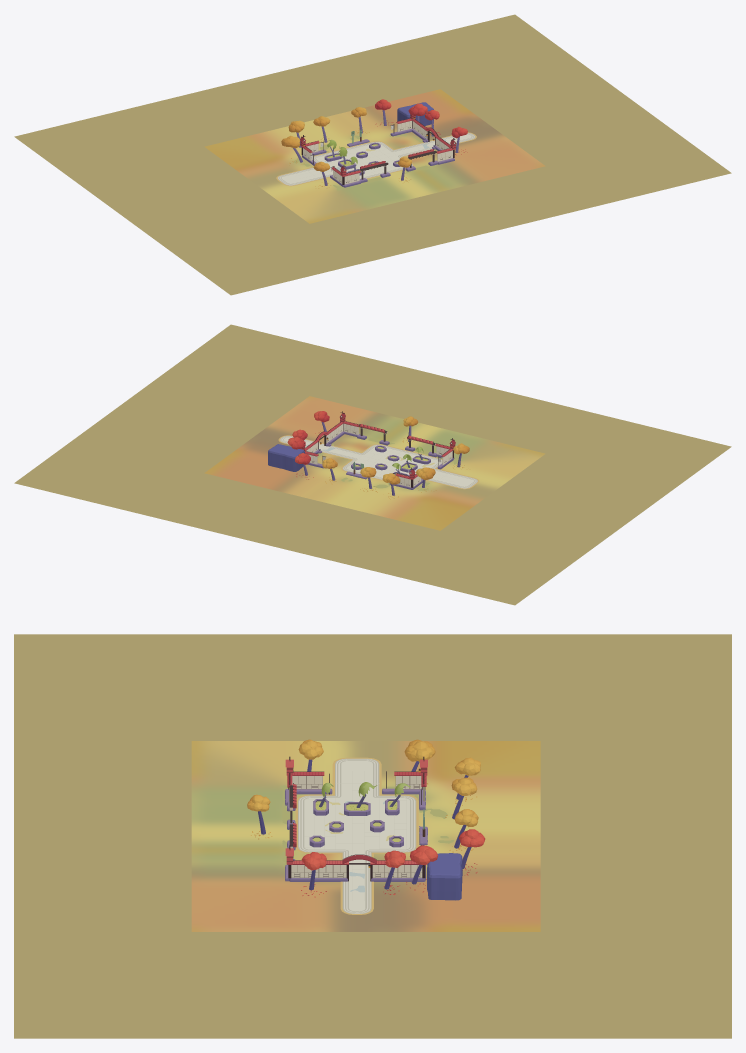
The model's file is plaza.glb.
3 renders of one model, top to bottom at view 1: azimuth 30°, elevation 25°; view 2: azimuth 150°, elevation 25°; view 3: azimuth 270°, elevation 25°, orthographic. The views are drawn at different scales.
Parts seen in each view (by area): view 1: GROUND, PAVING; view 2: GROUND, PAVING, NAVY_BLOCK; view 3: GROUND, PAVING, NAVY_BLOCK, WING_E_S, WING_E_N, SHADOWS, WING_SW_W.
Boxes of the visible parts, x1,y1,x2,y2 form: GROUND: (14, 14, 731, 295); PAVING: (276, 132, 476, 186); GROUND: (14, 324, 731, 605); PAVING: (278, 435, 479, 489); NAVY_BLOCK: (268, 444, 304, 471); GROUND: (14, 634, 731, 1038); PAVING: (295, 757, 418, 914); NAVY_BLOCK: (427, 853, 462, 900); WING_E_S: (289, 860, 348, 881); WING_E_N: (370, 860, 424, 881); SHADOWS: (280, 785, 454, 892); WING_SW_W: (292, 771, 332, 794).
Size of the model in its own units: 280 by 13.37 by 210.
